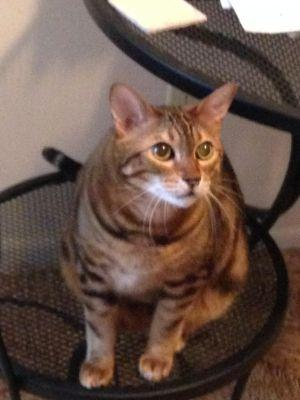bengal: (109, 74, 244, 221)
